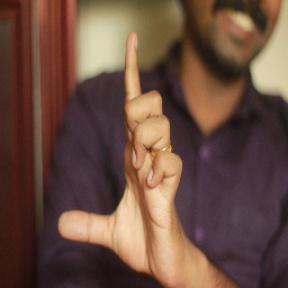L: (57, 32, 193, 271)
